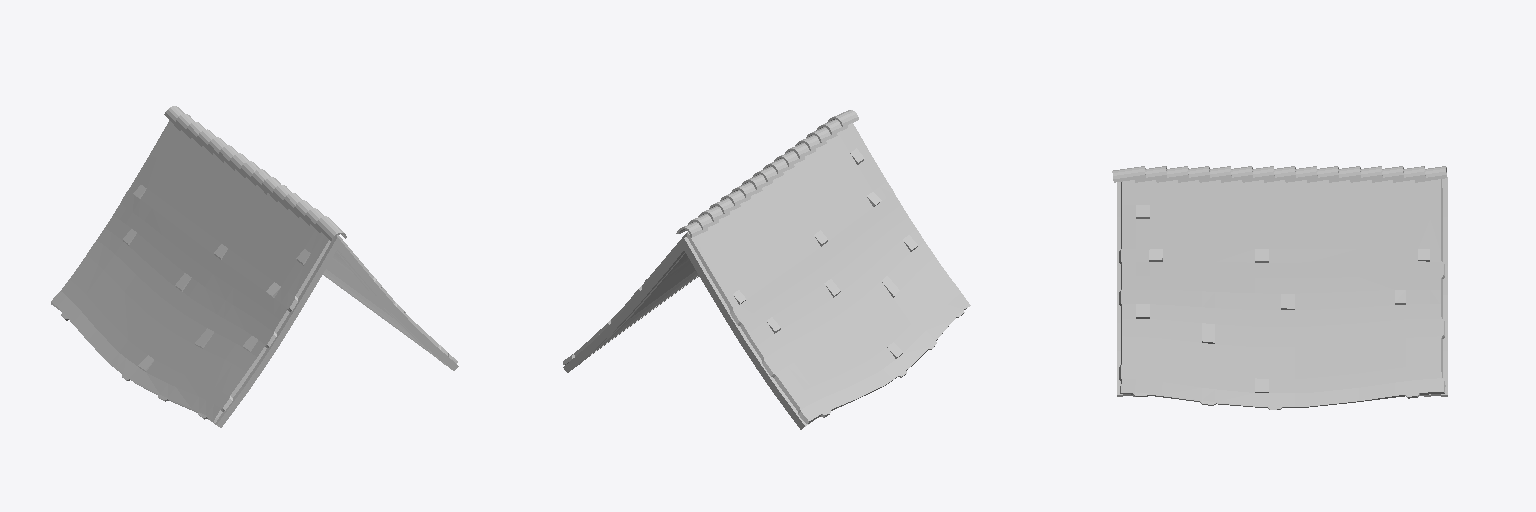
File: Roof_FlatTiles_8x10.obj
3 views of the same model, side by side, from view 1: azimuth 30°, elevation 25°; view 2: azimuth 150°, elevation 25°; view 3: azimuth 270°, elevation 25° (orthographic).
Visible parts, largest first — view 1: Roof_FlatTiles_8x10; view 2: Roof_FlatTiles_8x10; view 3: Roof_FlatTiles_8x10.
Boxes of the visible parts, x1=… form: Roof_FlatTiles_8x10: x1=51, y1=106, x2=458, y2=427; Roof_FlatTiles_8x10: x1=563, y1=110, x2=970, y2=429; Roof_FlatTiles_8x10: x1=1112, y1=166, x2=1447, y2=409.
Size of the model in its own units: 10.96 by 6.97 by 11.86.